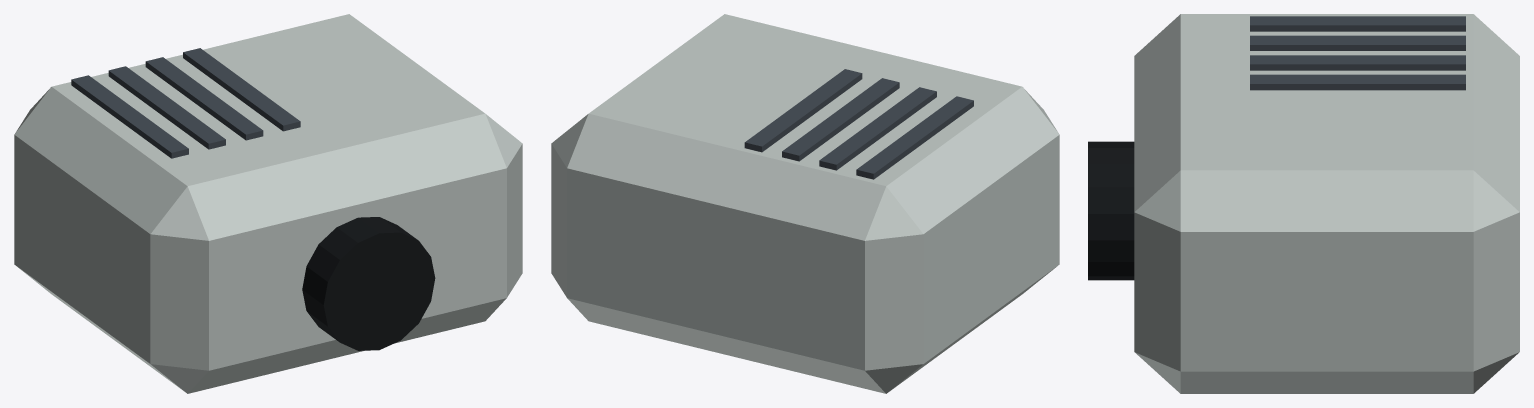
The model's file is Projector.fbx.
The picture shows the model from 3 angles, left to right: view 1: azimuth 30°, elevation 25°; view 2: azimuth 150°, elevation 25°; view 3: azimuth 270°, elevation 25°; orthographic projection. The views are drawn at different scales.
Visible parts, largest first — view 1: Projector; view 2: Projector; view 3: Projector.
Boxes of the visible parts, x1,y1,x2,y2 form: Projector: [14, 14, 522, 393]; Projector: [551, 14, 1059, 393]; Projector: [1088, 14, 1519, 393].
Size of the model in its own units: 30 by 16.45 by 28.
1 material, 1 textured.
